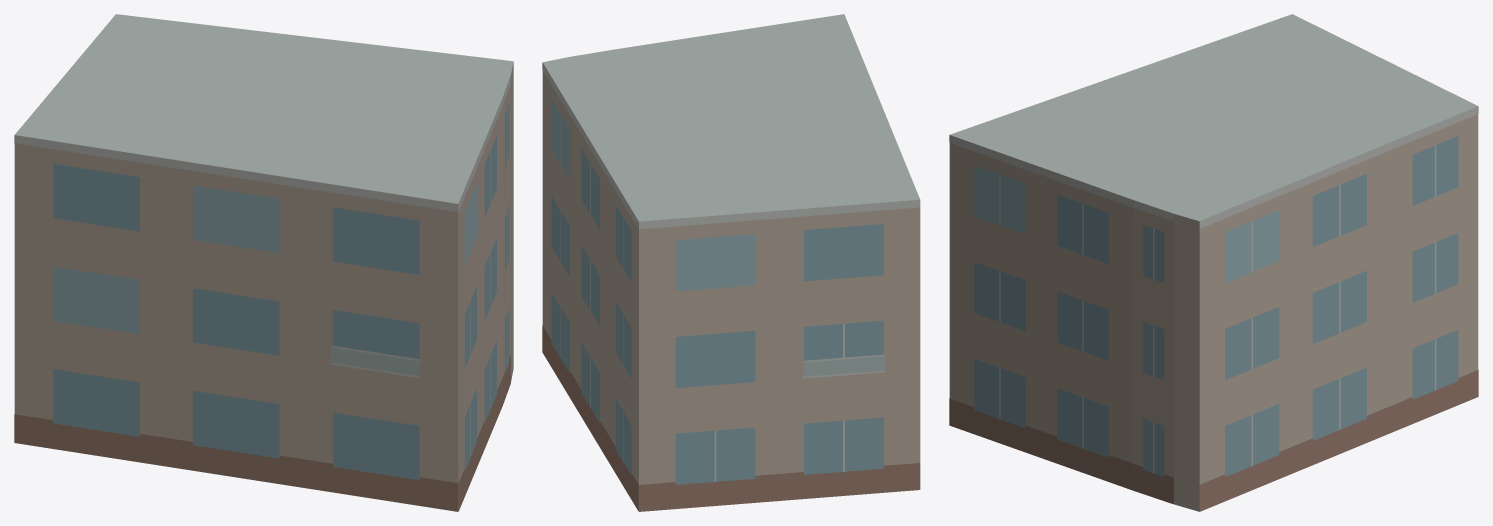
File: survey-upis-32774302.glb
3 views of the same model, side by side, from view 1: azimuth 30°, elevation 25°; view 2: azimuth 150°, elevation 25°; view 3: azimuth 270°, elevation 25° (orthographic). The views are drawn at different scales.
Visible parts, largest first — view 1: survey-upis-32774302.tmp; view 2: survey-upis-32774302.tmp; view 3: survey-upis-32774302.tmp.
Part boxes in pixels (left/top/right/bottom): survey-upis-32774302.tmp: left=14, top=14, right=513, bottom=511; survey-upis-32774302.tmp: left=542, top=14, right=920, bottom=511; survey-upis-32774302.tmp: left=949, top=14, right=1478, bottom=511.
Size of the model in its own units: 14 by 9.15 by 15.1.
